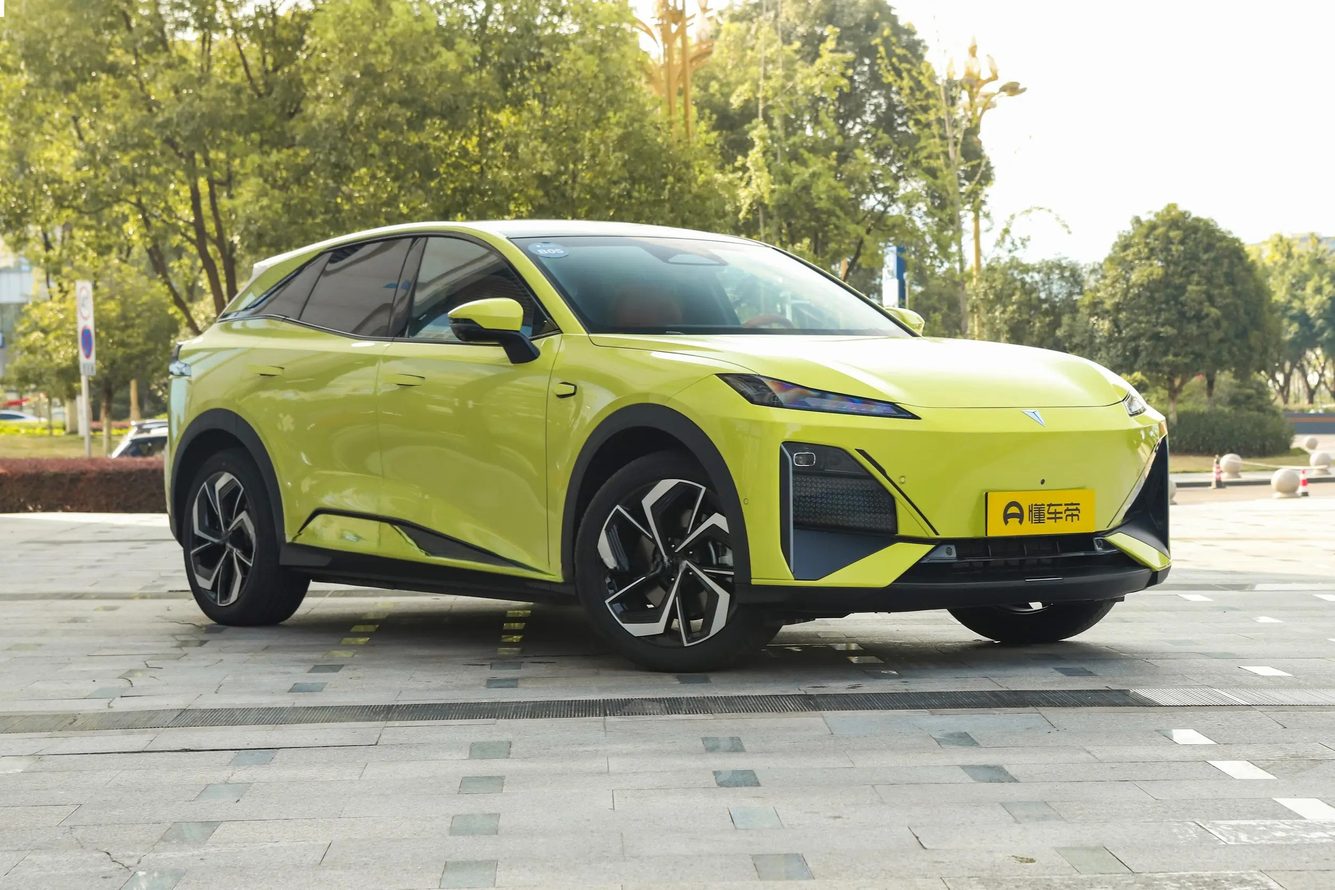Deepal: (1021, 410, 1044, 427)
